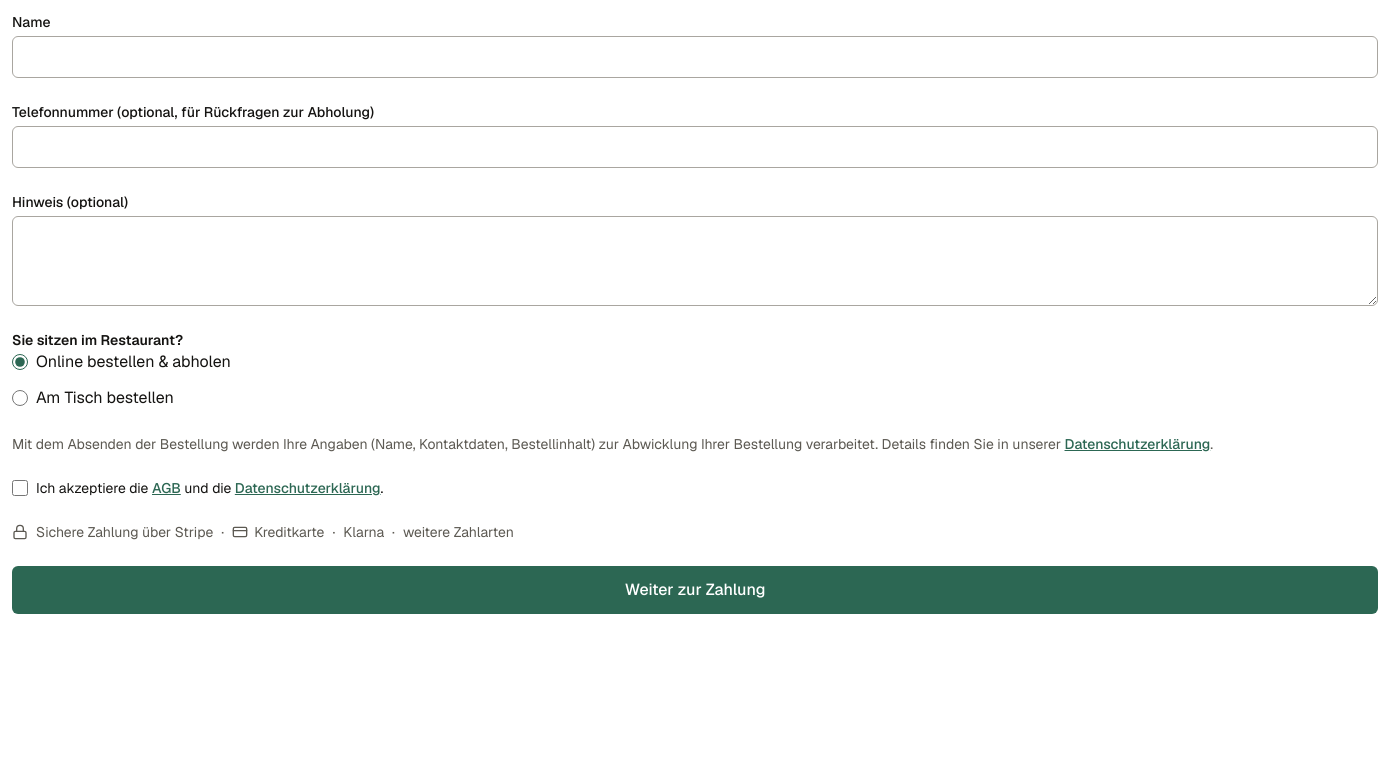
Test case: CheckoutForm accessibility › switches to a required, labeled table-number field for the table variant
Click the radio button labelled "Am Tisch bestellen". click: (20, 398)
box: [12,390,28,406]
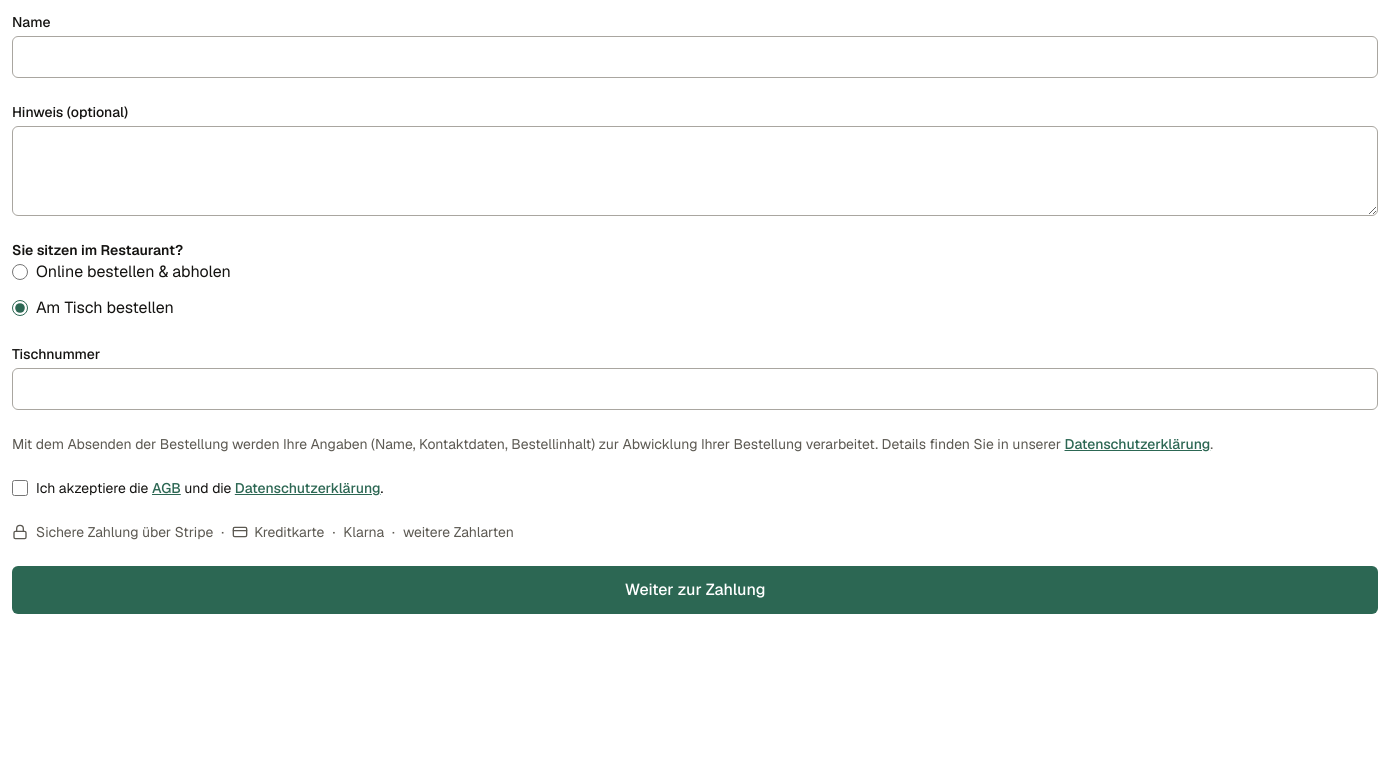
Now the label labelled "Telefonnummer (optional, für Rückfragen zur Abholung)" is gone
